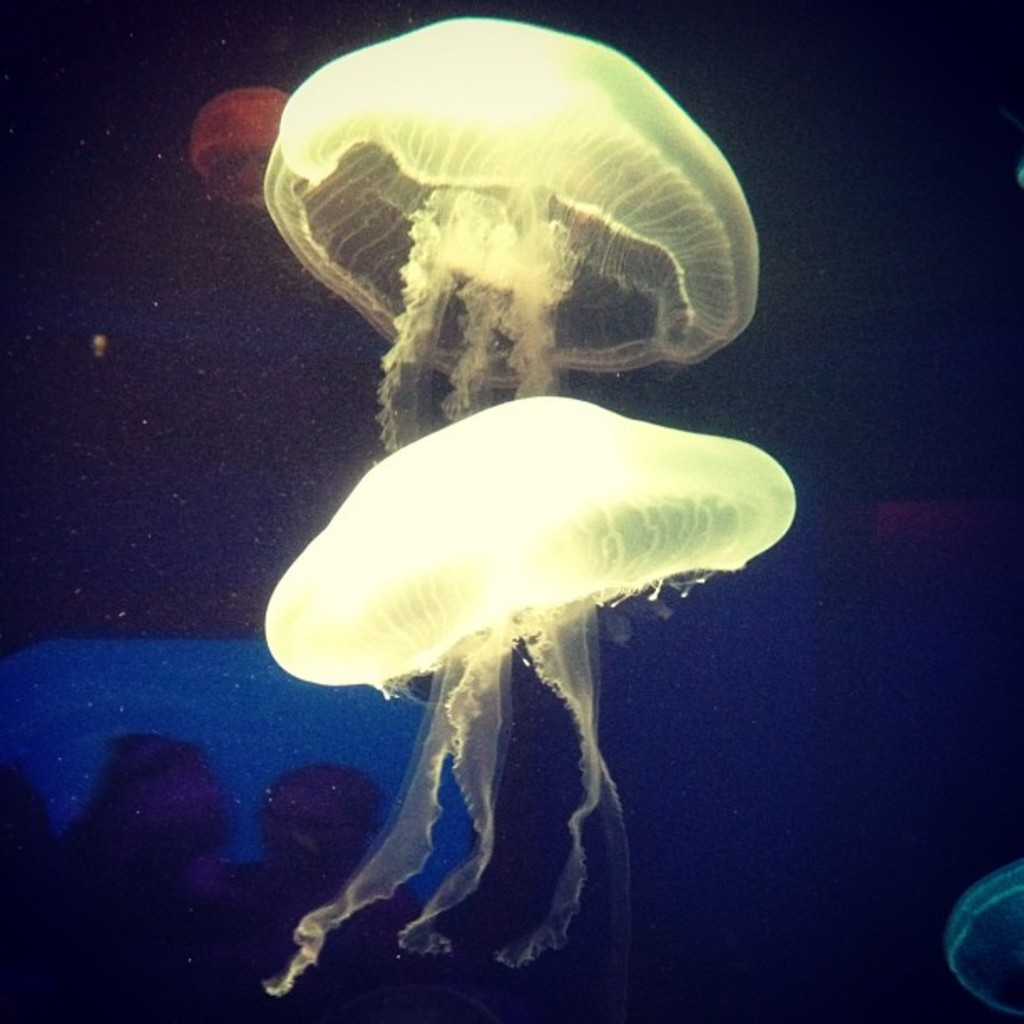Jellyfish: (261, 389, 796, 998), (267, 26, 769, 431)
